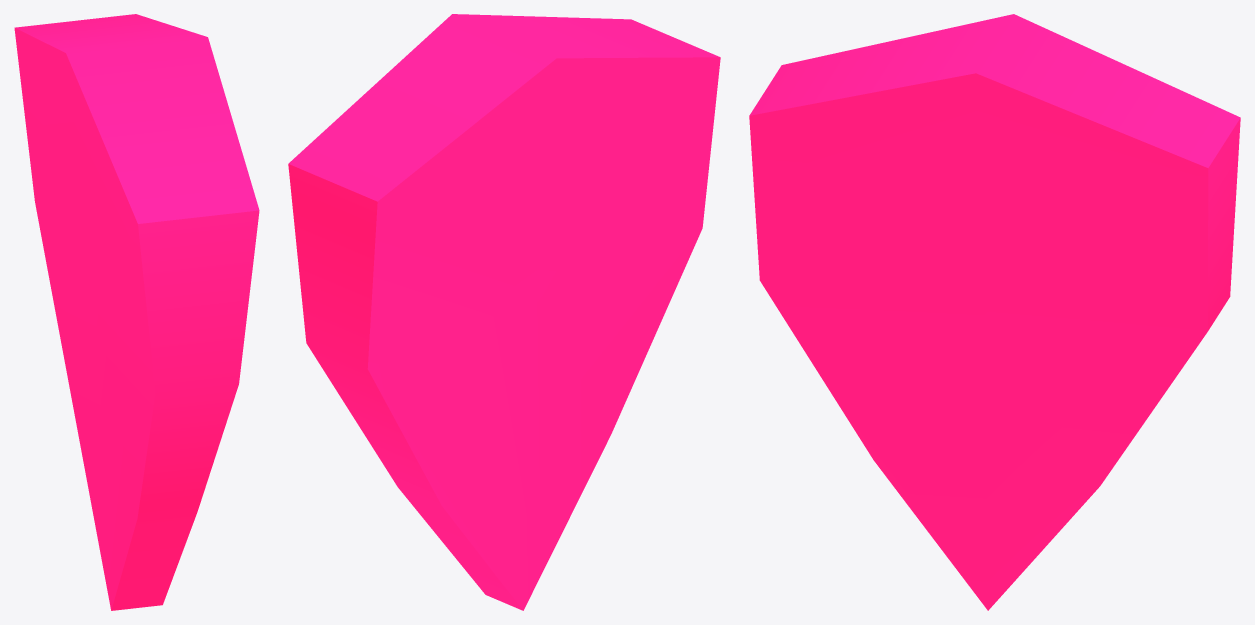
Rendered from marcador.fbx.
The picture shows the model from 3 angles, left to right: view 1: azimuth 30°, elevation 25°; view 2: azimuth 150°, elevation 25°; view 3: azimuth 270°, elevation 25°; orthographic projection.
Parts seen in each view (by area): view 1: marcador_preocedural; view 2: marcador_preocedural; view 3: marcador_preocedural.
Part boxes in pixels (left/top/right/bottom): marcador_preocedural: left=14, top=14, right=259, bottom=610; marcador_preocedural: left=288, top=14, right=720, bottom=610; marcador_preocedural: left=749, top=14, right=1240, bottom=610.
Size of the model in its own units: 321 by 807 by 646.
